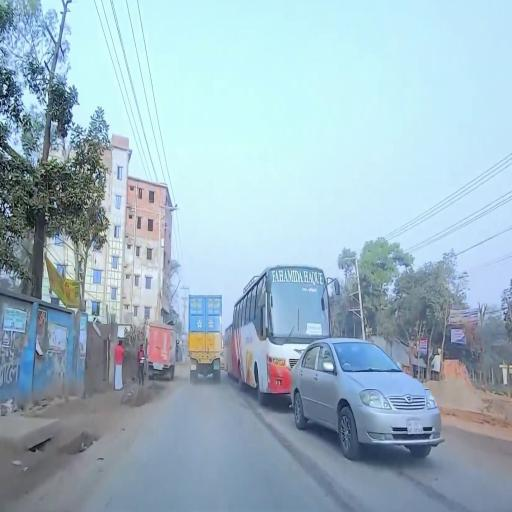bus: (234, 267, 292, 404)
car: (292, 338, 443, 462)
pickup: (148, 323, 179, 381)
truck: (189, 294, 223, 383)
